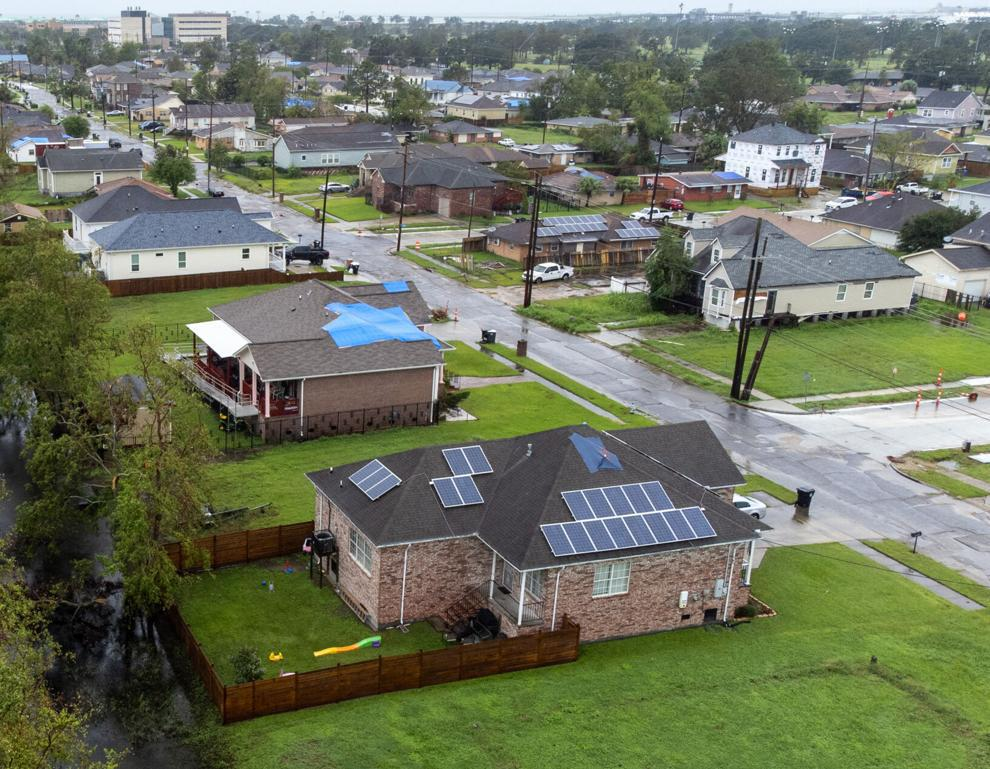affected: (308, 413, 787, 654)
minor: (164, 245, 495, 450)
